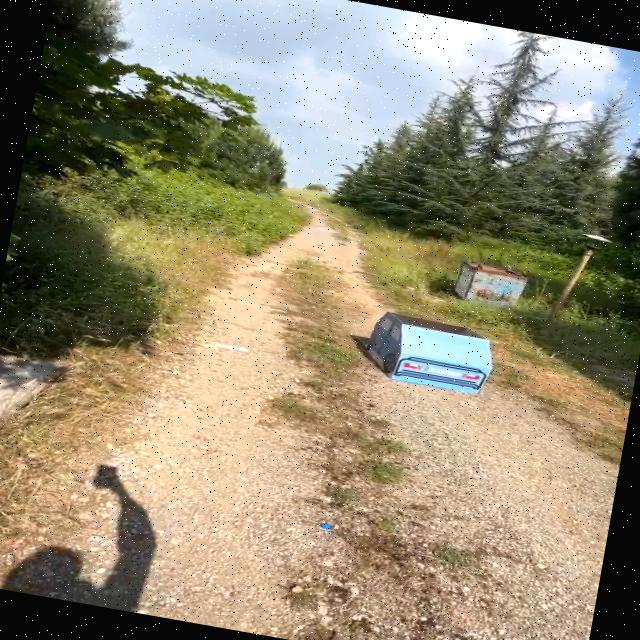blue_car: (344, 293, 512, 418)
